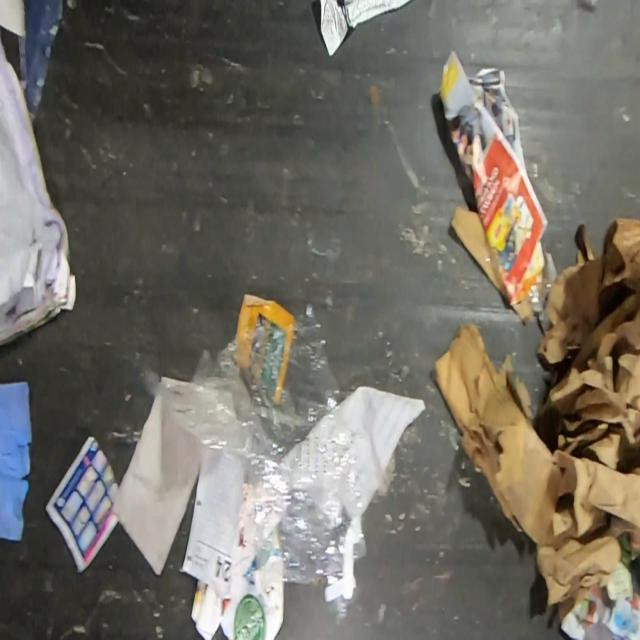cardboard: (433, 222, 640, 608), (448, 204, 502, 296), (600, 217, 640, 290)
soft_plastic: (145, 302, 367, 621)
